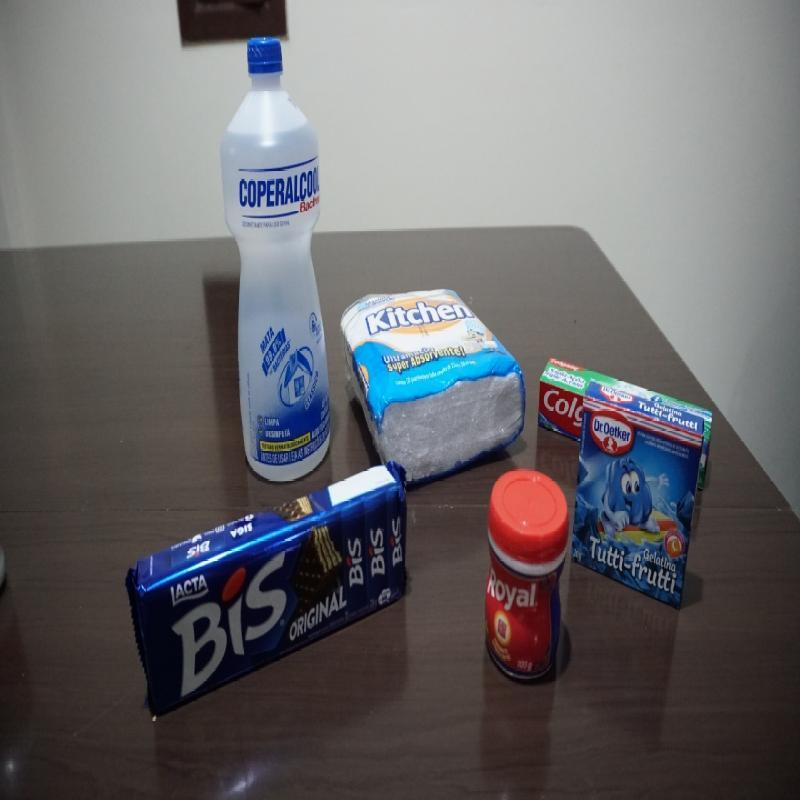Alcohol Bottle: (225, 35, 335, 475)
Gelatine: (574, 389, 704, 609)
Napkin: (337, 287, 531, 474)
Yeast: (482, 477, 570, 686)
